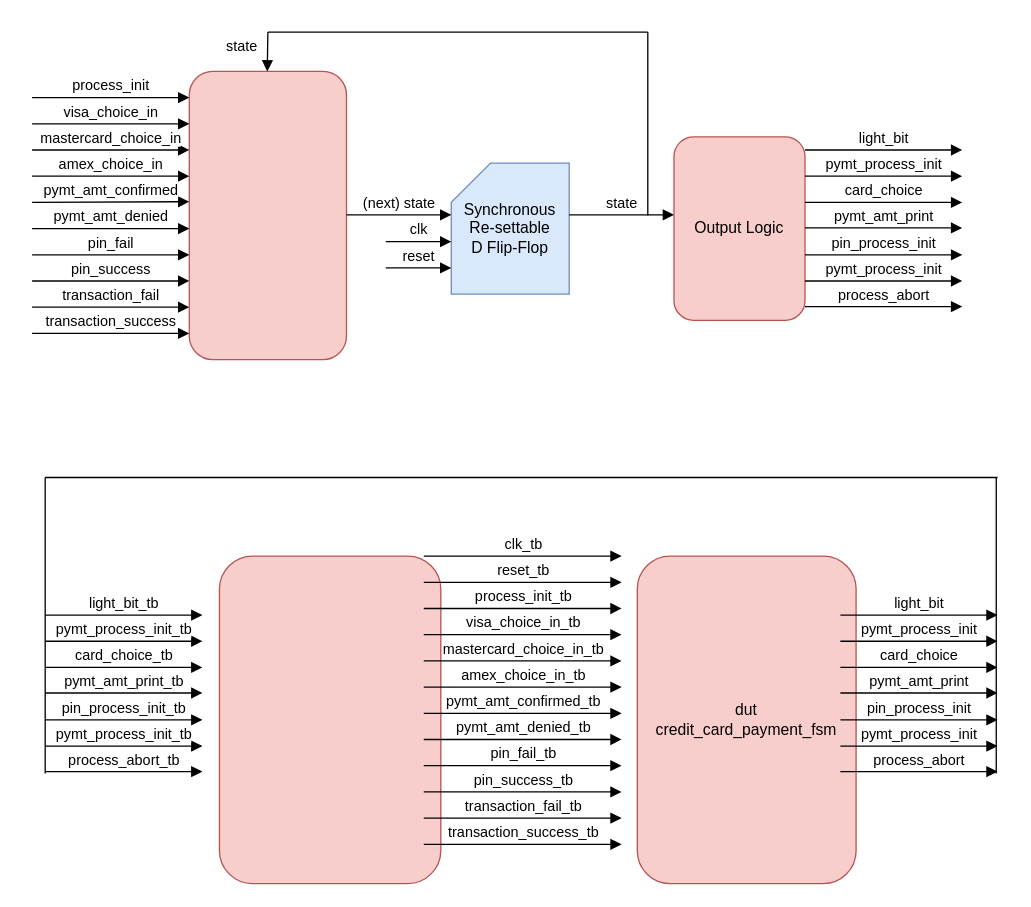
The diagram is 1031 pixels wide and 907 high, and some of its shapes have lost their labels. The centre of each missing label's shape, as x and y in pixels:
Next State Logic: point 267,215
Testbench credit_card_payment_fsm_tb: point 329,719
